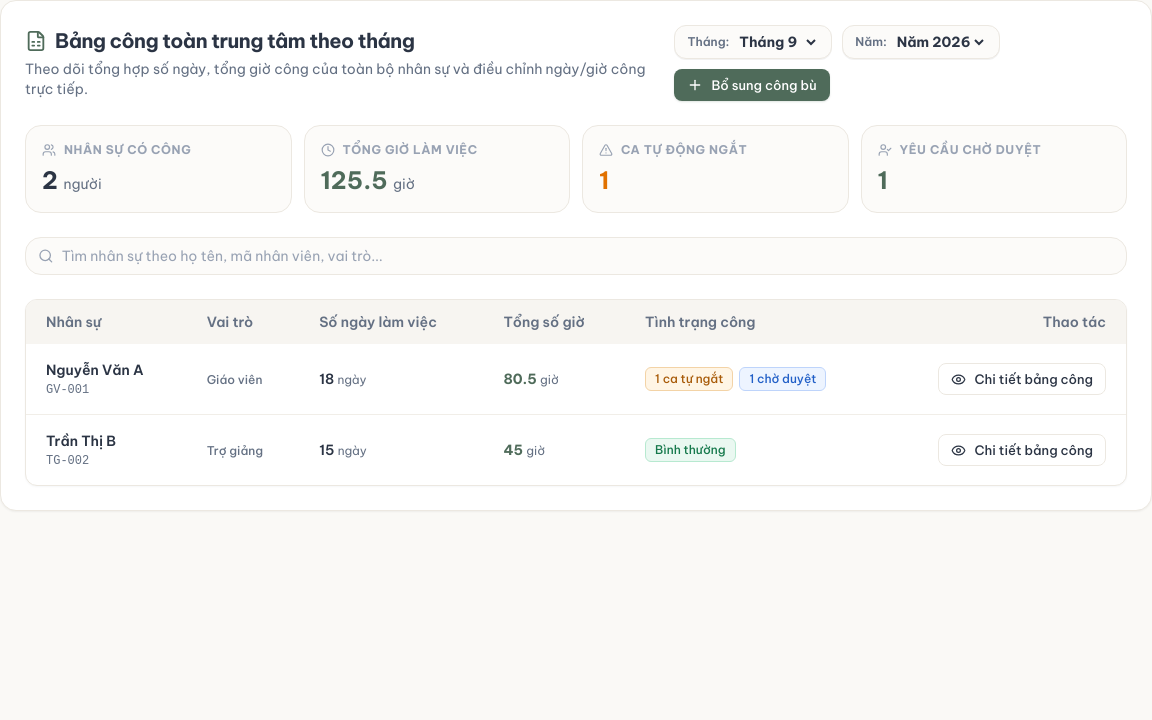
Test: CenterMonthlyTimesheetManagement › opens manual entry without an initial error banner
Click the button "Bổ sung công bù" at (752, 85), box [674, 69, 830, 101]
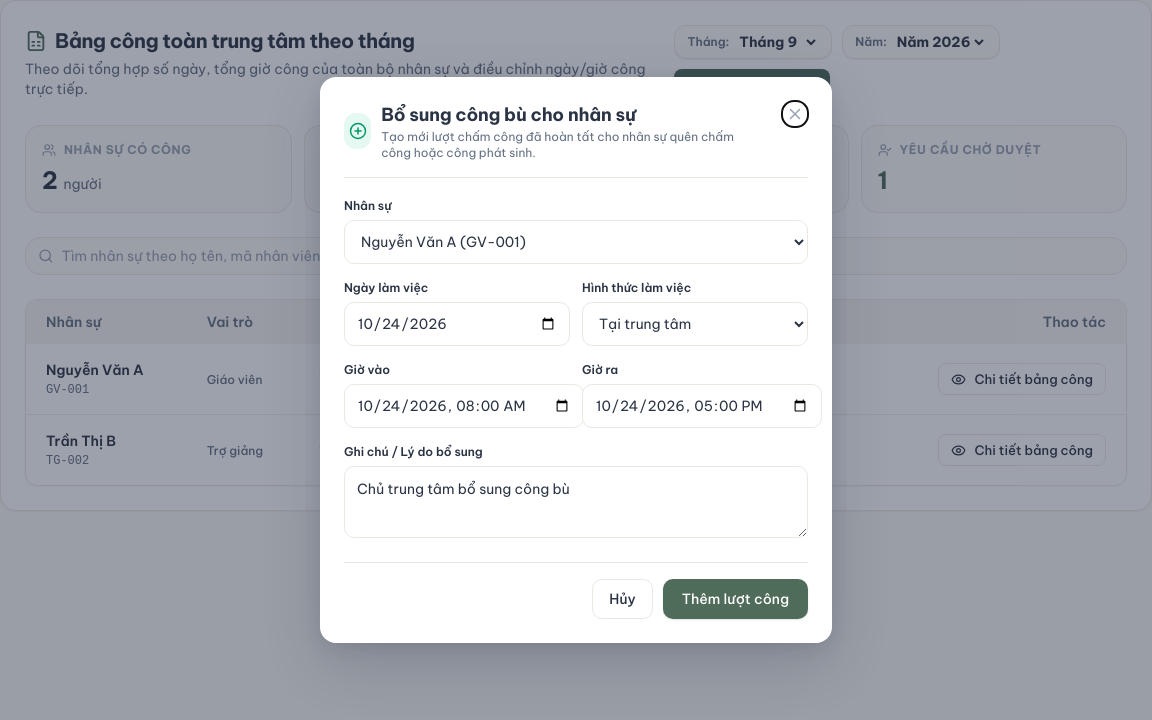
Expected: the dialog is shown, [320, 77, 832, 643]
